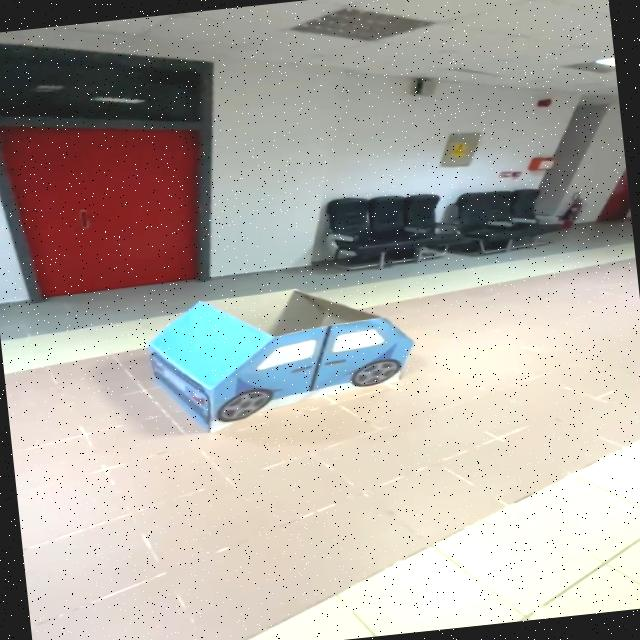blue_car: (116, 265, 429, 447)
